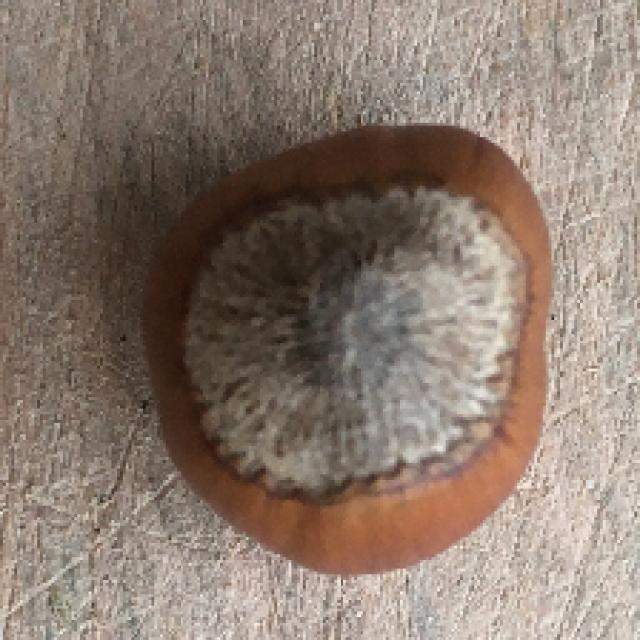damagedHazelnut: (142, 123, 558, 575)
